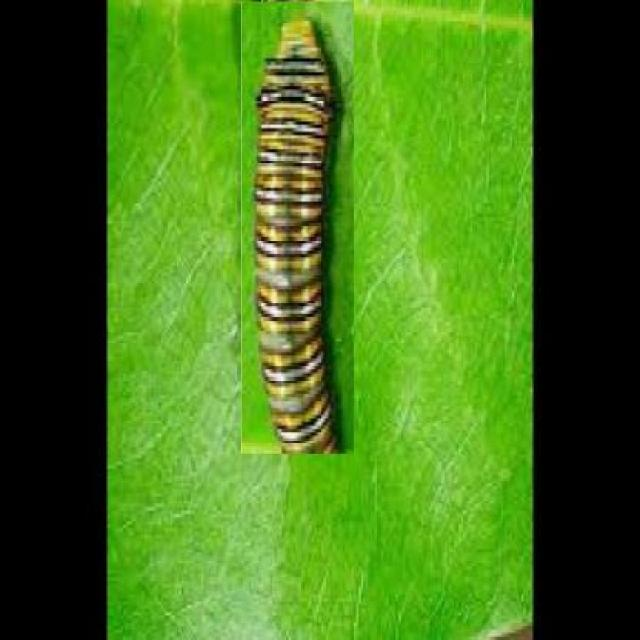Plaga: (240, 1, 356, 456)
